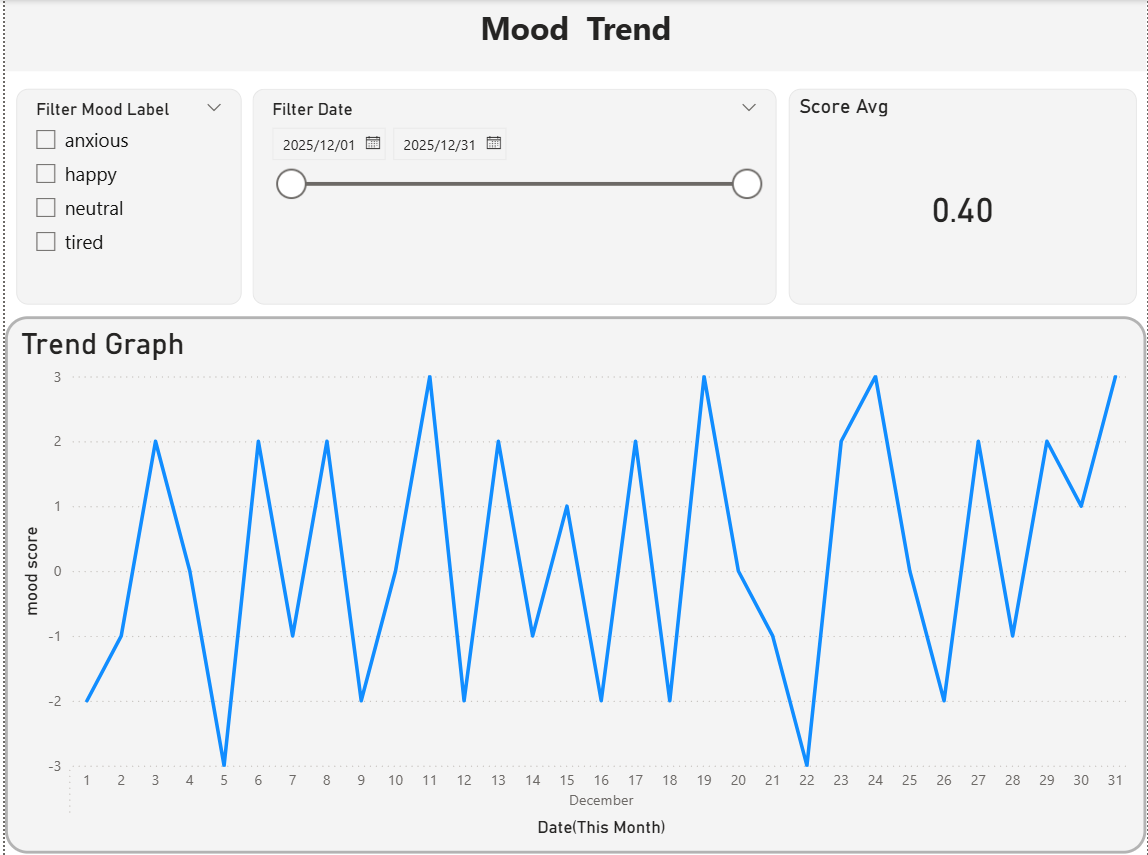

This screenshot's page, from the dashboard's own definition file:
{"tool":"powerbi","page":{"name":"Mood Trend","canvas":[960,720],"ordinal":0},"visuals":[{"type":"lineChart","fields":{"Y":["Sum(chattomo_logs.mood_score)"],"Category":["chattomo_logs.timestamp.バリエーション.日付の階層.月","chattomo_logs.timestamp.バリエーション.日付の階層.日"]},"box":[0,246,959.9,474.2],"z":0},{"type":"slicer","fields":{"Values":["chattomo_logs.mood_label"]},"box":[0,53.6,200.8,192.4],"z":1000},{"type":"slicer","fields":{"Values":["chattomo_logs.timestamp"]},"box":[200.8,53.6,381.7,192.4],"z":2000},{"type":"card","fields":{"Values":["Avg(chattomo_logs.mood_score)"]},"box":[582.5,61,377.5,185],"z":3000},{"type":"textbox","box":[0,0,959.9,61],"z":4000}]}

Visuals, with their boxes in screenshot pixels (x1, y1, x2, y2), scaled from the page's 960x720 canvas onto the 1148x855 screenshot:
lineChart - Sum(chattomo_logs.mood_score) x chattomo_logs.timestamp.バリエーション.日付の階層.月: x1=0, y1=292, x2=1147, y2=854
slicer - chattomo_logs.mood_label: x1=0, y1=64, x2=240, y2=292
slicer - chattomo_logs.timestamp: x1=240, y1=64, x2=697, y2=292
card - Avg(chattomo_logs.mood_score): x1=697, y1=72, x2=1147, y2=292
textbox: x1=0, y1=0, x2=1147, y2=72
